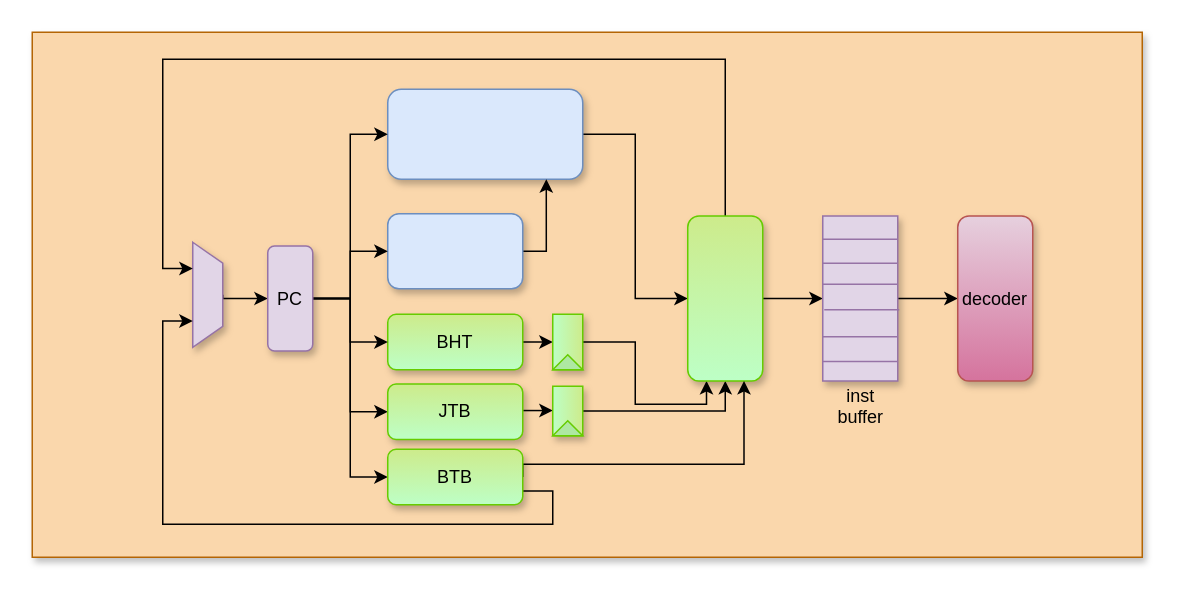
Image size: 1178x594. Some labels were removed from this diagram. Here are the shapes that lost their labels. From the top down, the centre of each, then its label:
At (x=486, y=136): "iCache".
At (x=456, y=252): "iTLB".
At (x=726, y=300): "branch predictor".
